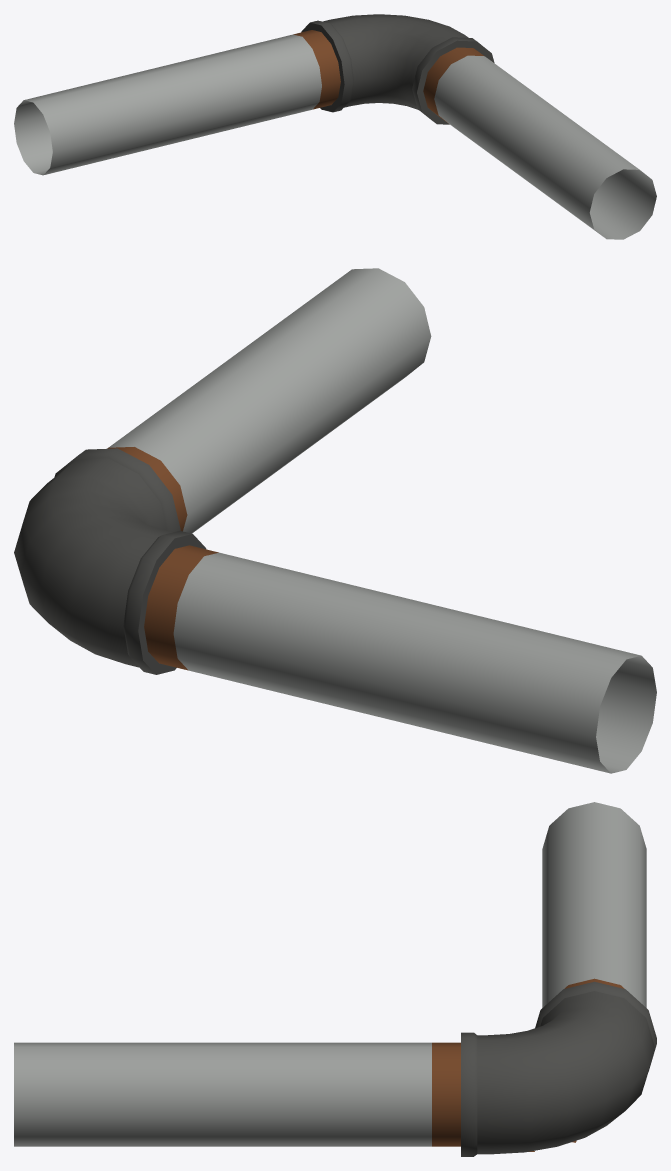
Rendered from pipe_elbow.glb.
The picture shows the model from 3 angles, top to bottom: view 1: azimuth 30°, elevation 25°; view 2: azimuth 150°, elevation 25°; view 3: azimuth 270°, elevation 25°; orthographic projection. The views are drawn at different scales.
Visible parts, largest first — view 1: pipe_elbow0, pipe_elbow2, pipe_elbow1; view 2: pipe_elbow0, pipe_elbow2, pipe_elbow1; view 3: pipe_elbow0, pipe_elbow2, pipe_elbow1.
Part boxes in pixels (box(x1,y1,x2,y2)): pipe_elbow0: box(14, 34, 656, 239); pipe_elbow2: box(301, 14, 494, 124); pipe_elbow1: box(293, 30, 484, 123); pipe_elbow0: box(109, 268, 656, 773); pipe_elbow2: box(14, 448, 206, 674); pipe_elbow1: box(107, 447, 218, 670); pipe_elbow0: box(14, 802, 646, 1146); pipe_elbow2: box(461, 981, 656, 1156); pipe_elbow1: box(432, 978, 624, 1151).
Size of the model in its own units: 0.5538 by 0.1076 by 0.5538.
